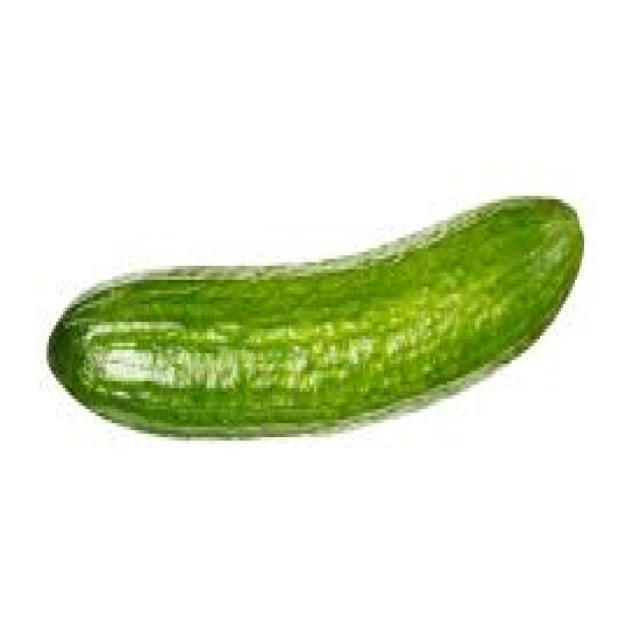cucumber: (44, 192, 584, 438)
